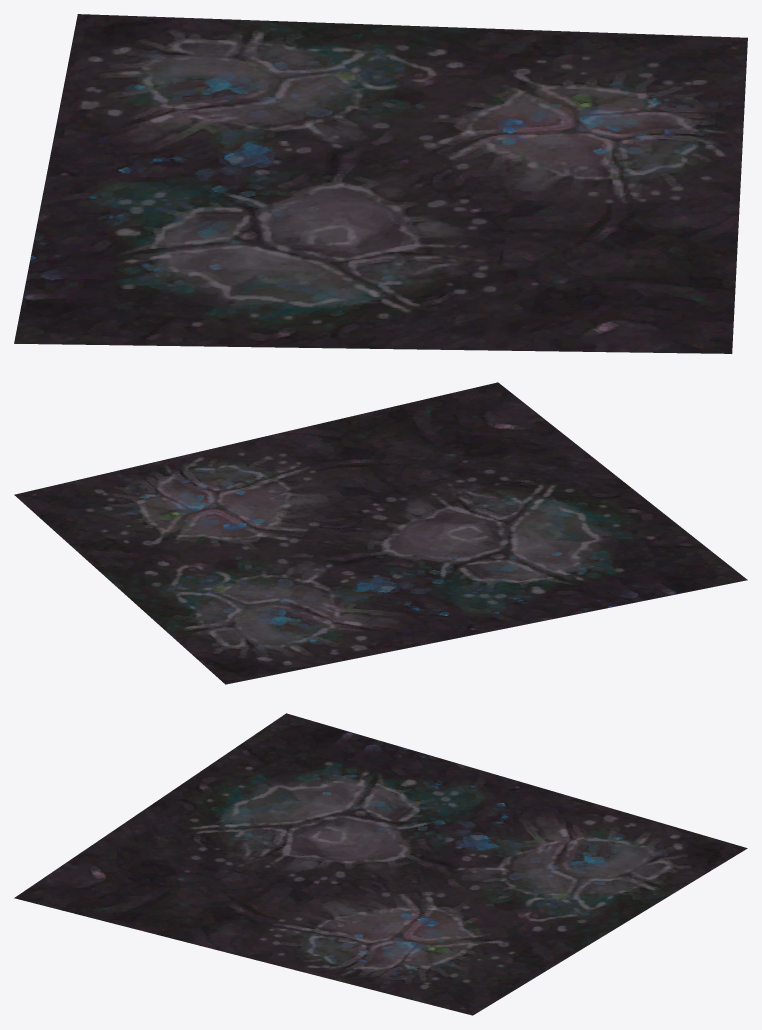
The model's file is cave_floor_mushrooms_14.fbx.
The picture shows the model from 3 angles, top to bottom: view 1: azimuth 30°, elevation 25°; view 2: azimuth 150°, elevation 25°; view 3: azimuth 270°, elevation 25°; orthographic projection. The views are drawn at different scales.
Visible parts, largest first — view 1: cave_tileset/Floormushrooms_02_mat; view 2: cave_tileset/Floormushrooms_02_mat; view 3: cave_tileset/Floormushrooms_02_mat.
Part boxes in pixels (bbox=[...]): cave_tileset/Floormushrooms_02_mat: bbox=[14, 14, 747, 353]; cave_tileset/Floormushrooms_02_mat: bbox=[14, 382, 747, 684]; cave_tileset/Floormushrooms_02_mat: bbox=[14, 713, 747, 1015].
Size of the model in its own units: 6.29 by 0 by 6.45.
